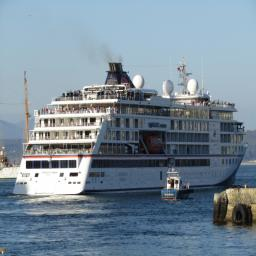cruises: (12, 60, 250, 196)
